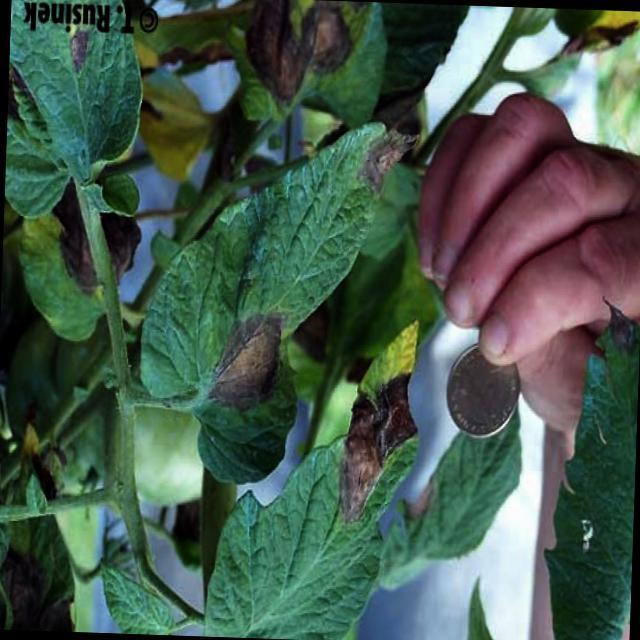Tomato late blight leaf: (132, 102, 426, 494), (202, 308, 423, 639), (3, 0, 149, 227)
